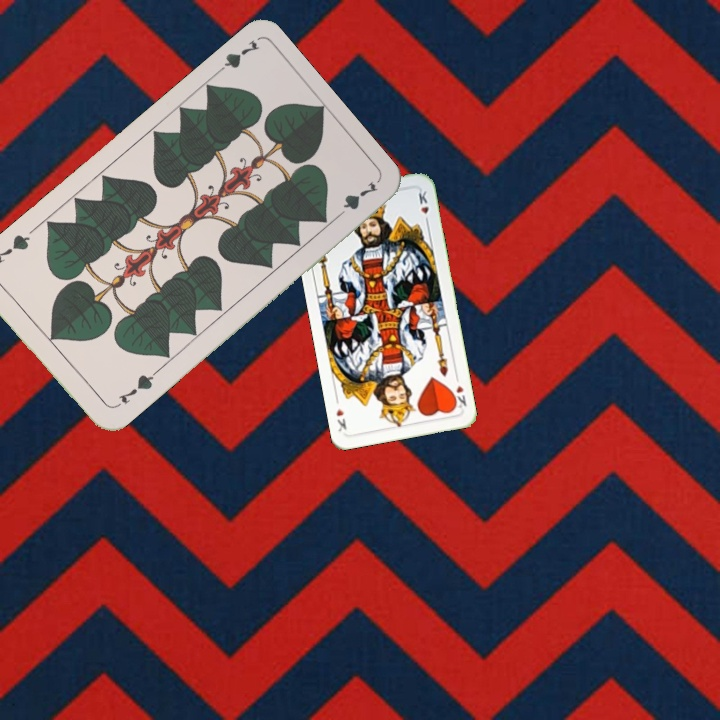G7: (209, 35, 262, 79), (110, 368, 159, 411)
HK: (448, 371, 469, 411)
